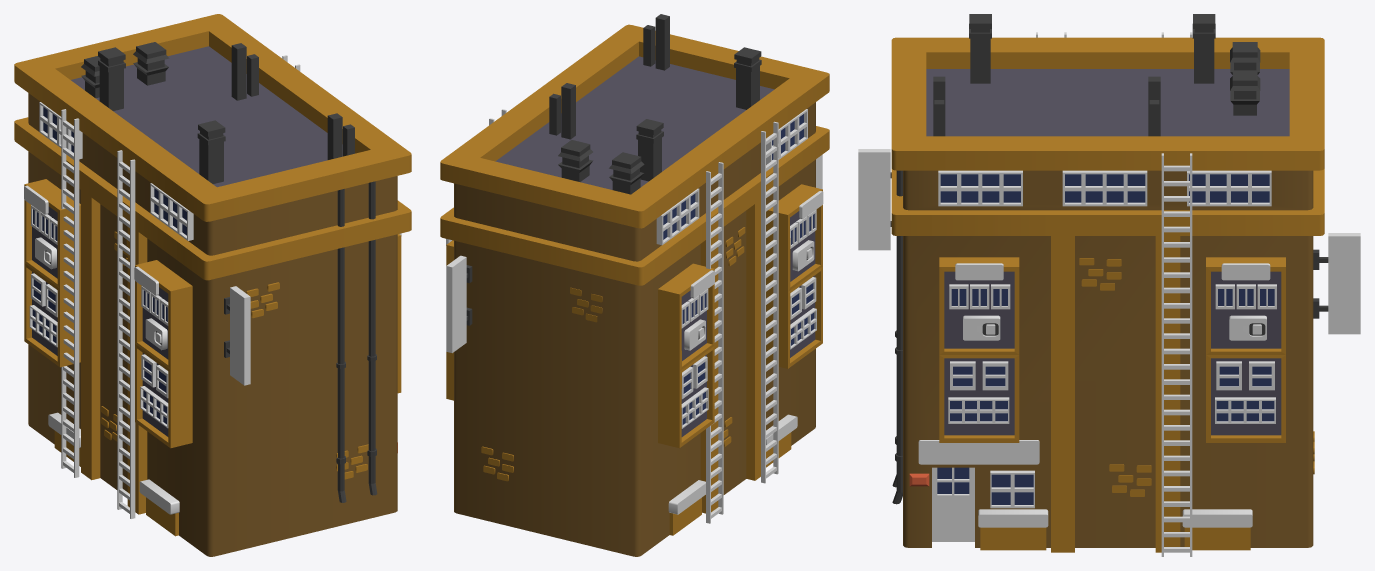
Rendered from edificio2.fbx.
3 renders of one model, left to right at view 1: azimuth 30°, elevation 25°; view 2: azimuth 150°, elevation 25°; view 3: azimuth 270°, elevation 25°, orthographic. The views are drawn at different scales.
Parts seen in each view (by area): view 1: Cube.024, Cube.049, Cube.054, Cube.064, Cube.062, Plane.010, Cylinder.001, Cylinder.002, Cube.068, Cube.063, Cube.061, Cube.048 (+16 smaller); view 2: Cube.024, Cube.054, Cube.049, Cube.064, Cube.062, Plane.010, Cube.063, Cube.066, Cube.061, Cube.048, Cube.047, Cube.070 (+16 smaller); view 3: Cube.024, Cube.025, Cube.039, Plane.005, Cube.034, Cube.066, Cube.068, Cube.031, Plane.008, Cube.045, Cube.040, Cube.069 (+19 smaller).
Part boxes in pixels (x1,y1,x2,y2): Cube.024: (14,14,411,556); Cube.049: (134,260,192,448); Cube.054: (24,179,80,367); Cube.064: (117,150,135,518); Cube.062: (61,109,79,477); Plane.010: (39,102,193,240); Cylinder.001: (367,181,377,495); Cylinder.002: (336,189,346,502); Cube.068: (230,286,250,385); Cube.063: (119,161,129,513); Cube.061: (63,120,73,472); Cube.048: (197,120,225,183); Cube.024: (440,24,829,556); Cube.054: (658,263,714,448); Cube.049: (766,184,823,368); Cube.064: (761,121,778,483); Cube.062: (706,162,723,523); Plane.010: (656,109,807,245); Cube.063: (766,133,776,478); Cube.066: (446,255,466,353); Cube.061: (711,173,721,518); Cube.048: (734,47,761,109); Cube.047: (636,119,663,181); Cube.070: (668,480,705,535); Cube.024: (891,37,1324,552); Cube.025: (939,257,1019,442); Cube.039: (1206,257,1285,442); Plane.005: (938,170,1271,206); Cube.034: (1164,165,1189,552); Cube.066: (1328,233,1360,334); Cube.068: (858,149,890,250); Cube.031: (932,467,974,541); Plane.008: (1062,170,1147,206); Cube.045: (978,509,1048,550); Cube.040: (918,440,1039,464); Cube.069: (1182,509,1252,550).
Bounding box in the file's own units: 309 × 480 × 490.
